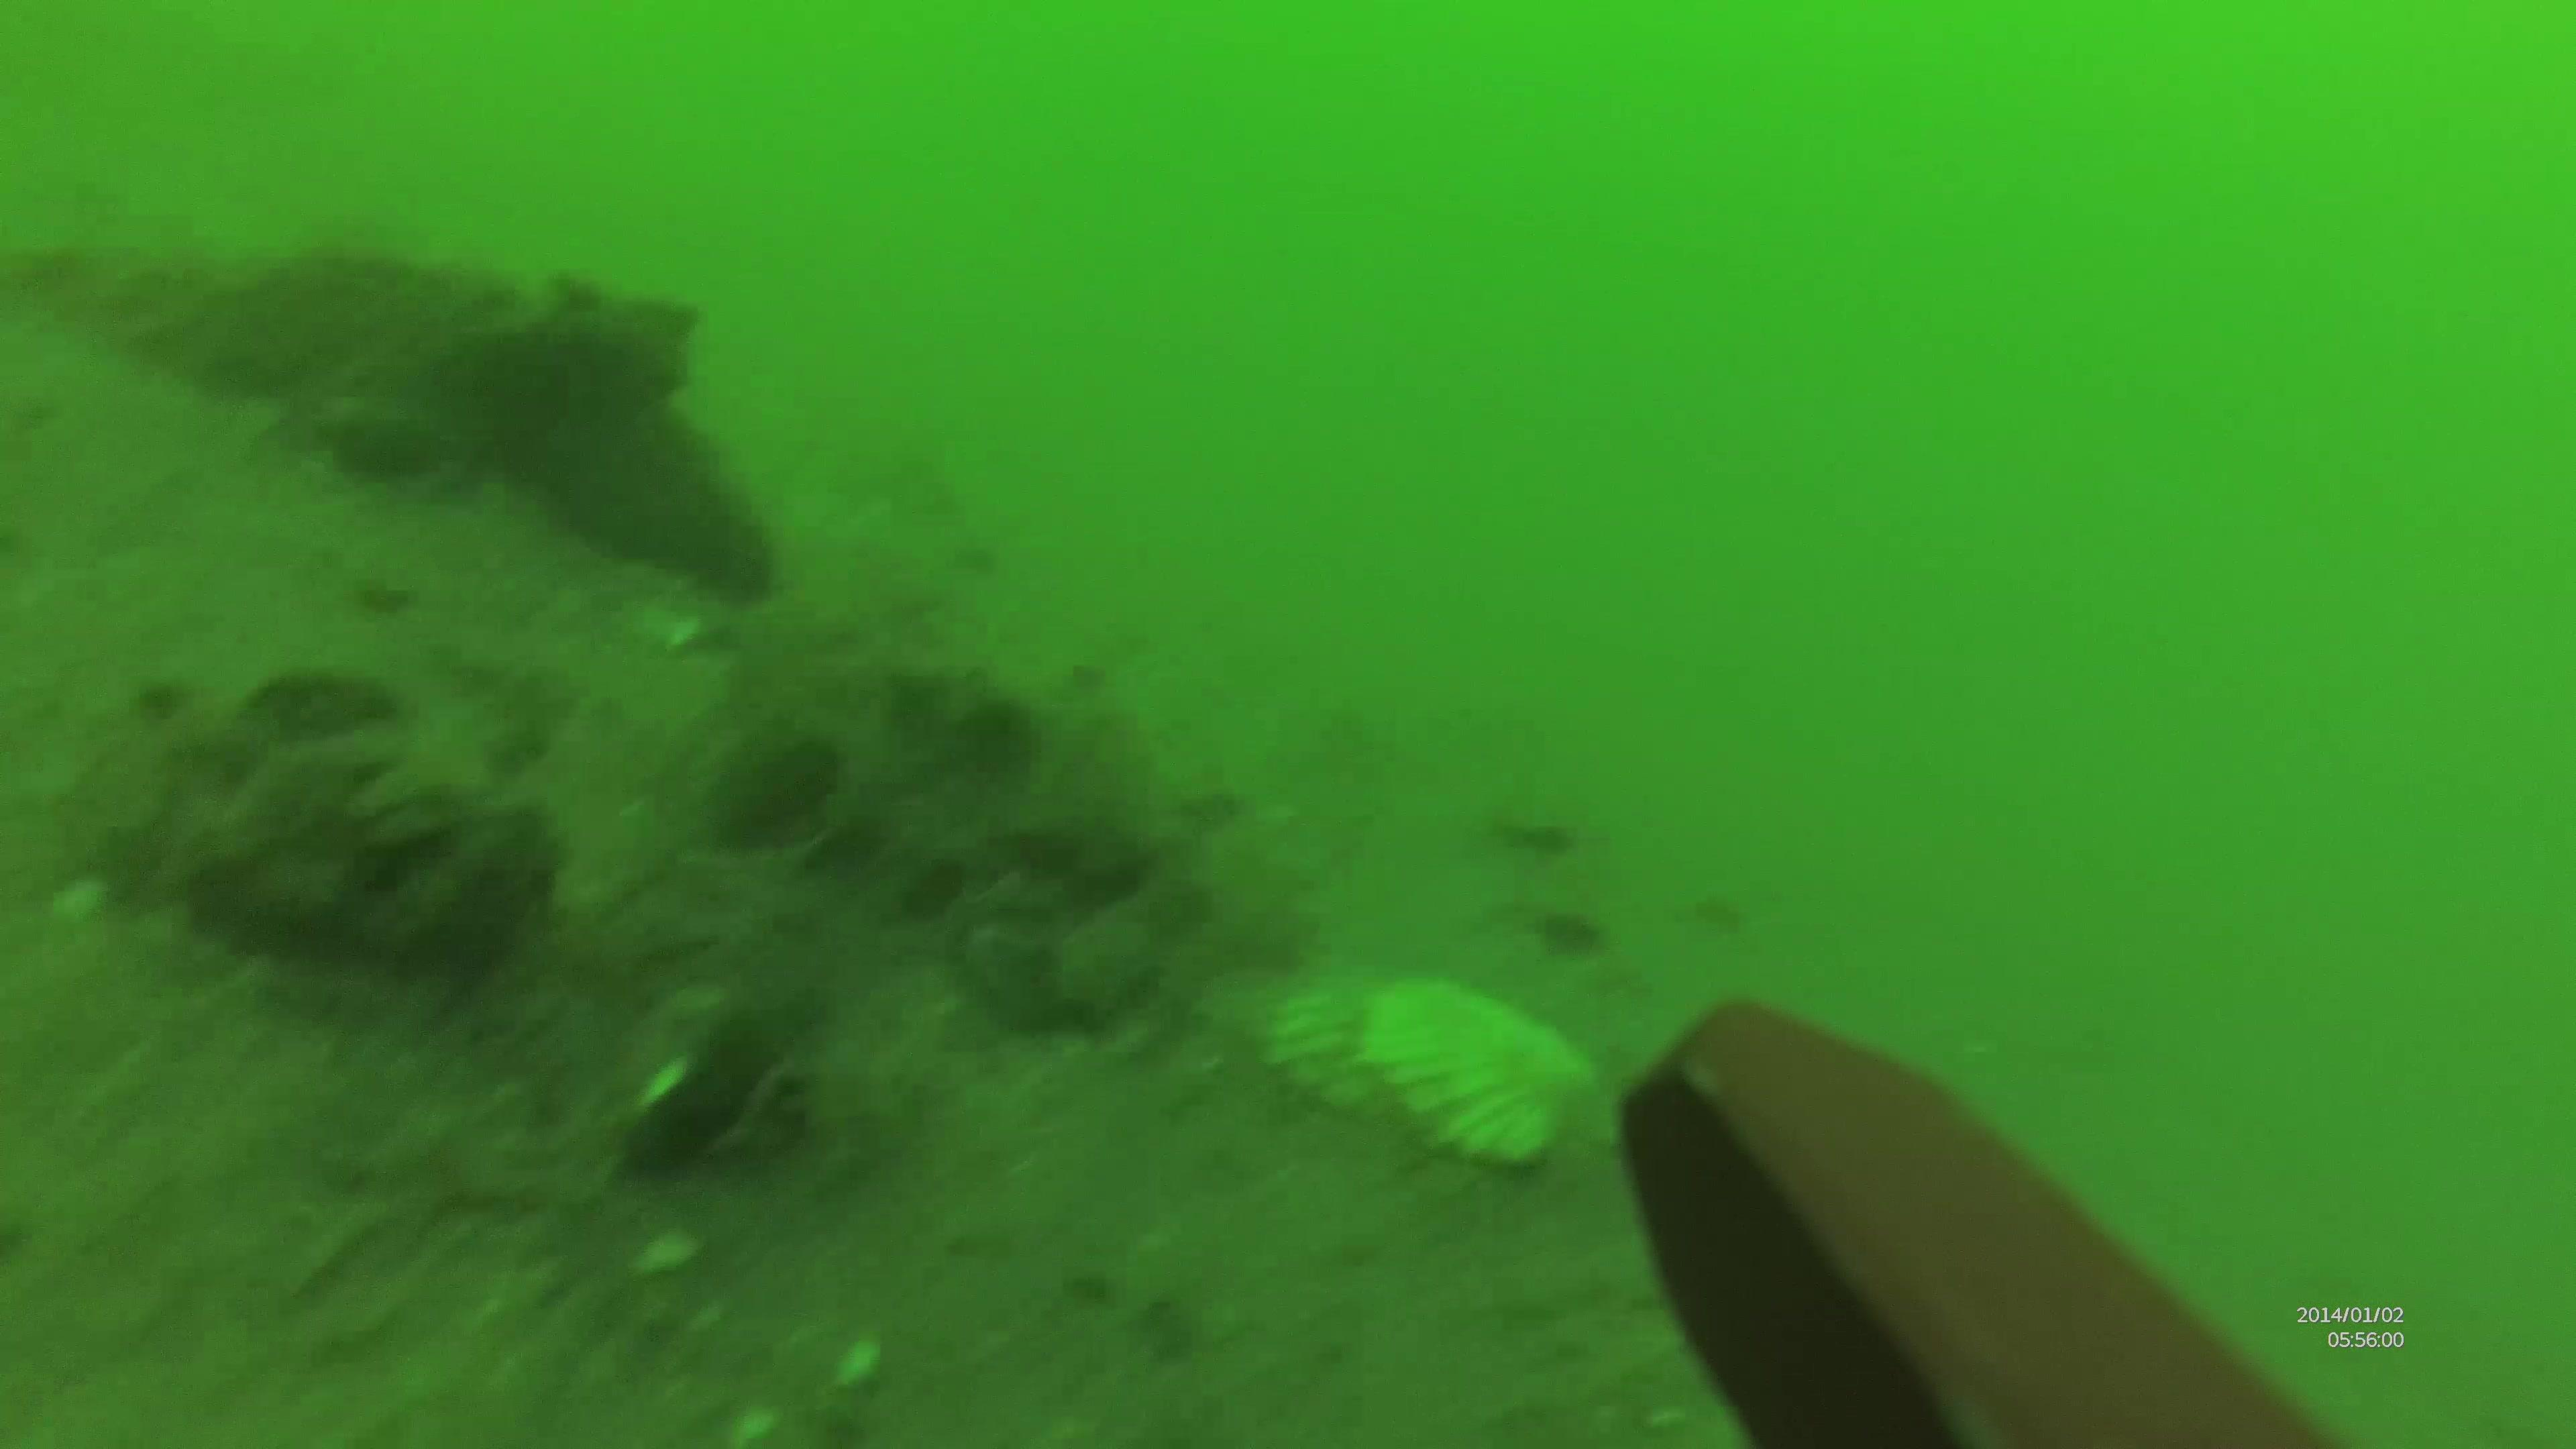scallop: (1369, 975, 1582, 1157), (1265, 980, 1428, 1106)
